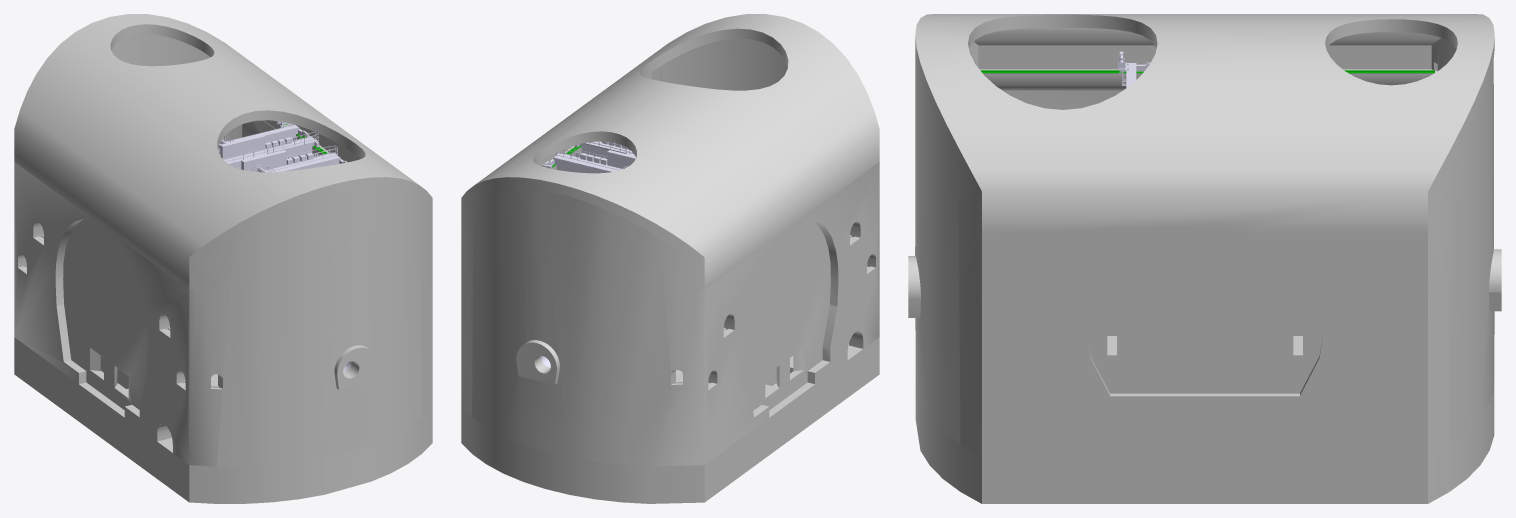
The picture shows the model from 3 angles, left to right: view 1: azimuth 30°, elevation 25°; view 2: azimuth 150°, elevation 25°; view 3: azimuth 270°, elevation 25°; orthographic projection. The views are drawn at different scales.
Visible parts, largest first — view 1: K0152153MQ, VOUTEUX1, Body.295, Body.13, Obj_Body.295, Body.18, Obj_Body.13; view 2: K0152153MQ, VOUTEUX1, Body.13; view 3: K0152153MQ, VOUTEUX1, Obj_Body.2_1.
Boxes of the visible parts, <box> form: K0152153MQ: <box>14,34,432,503</box>; VOUTEUX1: <box>14,14,432,290</box>; Body.295: <box>220,134,265,159</box>; Body.13: <box>224,137,315,169</box>; Obj_Body.295: <box>241,150,286,171</box>; Body.18: <box>218,124,299,151</box>; Obj_Body.13: <box>267,155,340,172</box>; K0152153MQ: <box>461,38,879,503</box>; VOUTEUX1: <box>461,14,879,290</box>; Body.13: <box>553,155,619,173</box>; K0152153MQ: <box>908,38,1501,503</box>; VOUTEUX1: <box>915,14,1494,232</box>; Obj_Body.2_1: <box>980,70,1434,73</box>.
Size of the model in its own units: 34 by 41.2 by 56.31.
